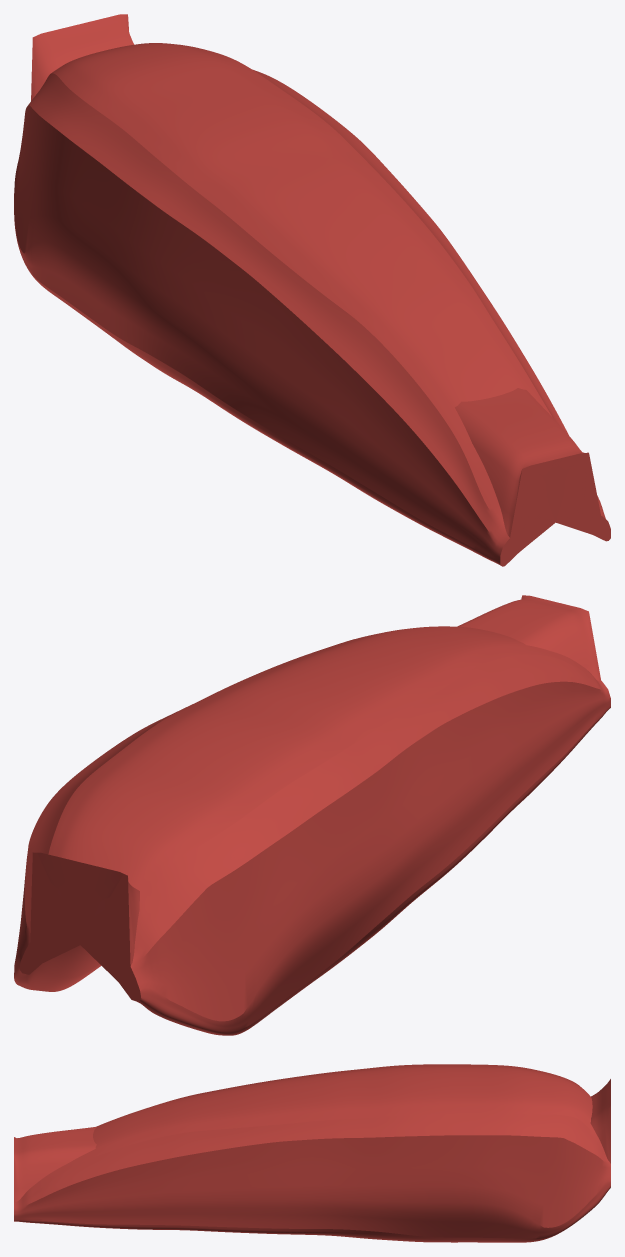
The model's file is bobber_1.glb.
3 views of the same model, one above another, from view 1: azimuth 30°, elevation 25°; view 2: azimuth 150°, elevation 25°; view 3: azimuth 270°, elevation 25° (orthographic). The views are drawn at different scales.
Visible parts, largest first — view 1: lod0; view 2: lod0; view 3: lod0.
Part boxes in pixels (bbox=[...]): lod0: bbox=[14, 14, 610, 566]; lod0: bbox=[14, 595, 610, 1035]; lod0: bbox=[14, 1064, 610, 1242].
Size of what is drawn, in the model's own units: 0.316 by 0.2585 by 1.06.
